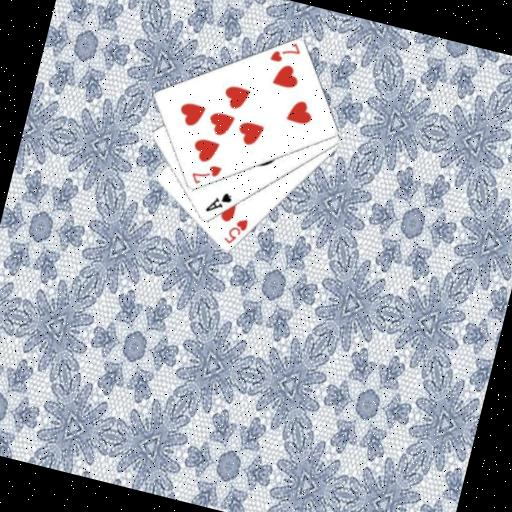5H: (220, 212, 251, 249)
7H: (266, 35, 304, 70), (187, 158, 224, 191)
AS: (202, 186, 235, 219)
